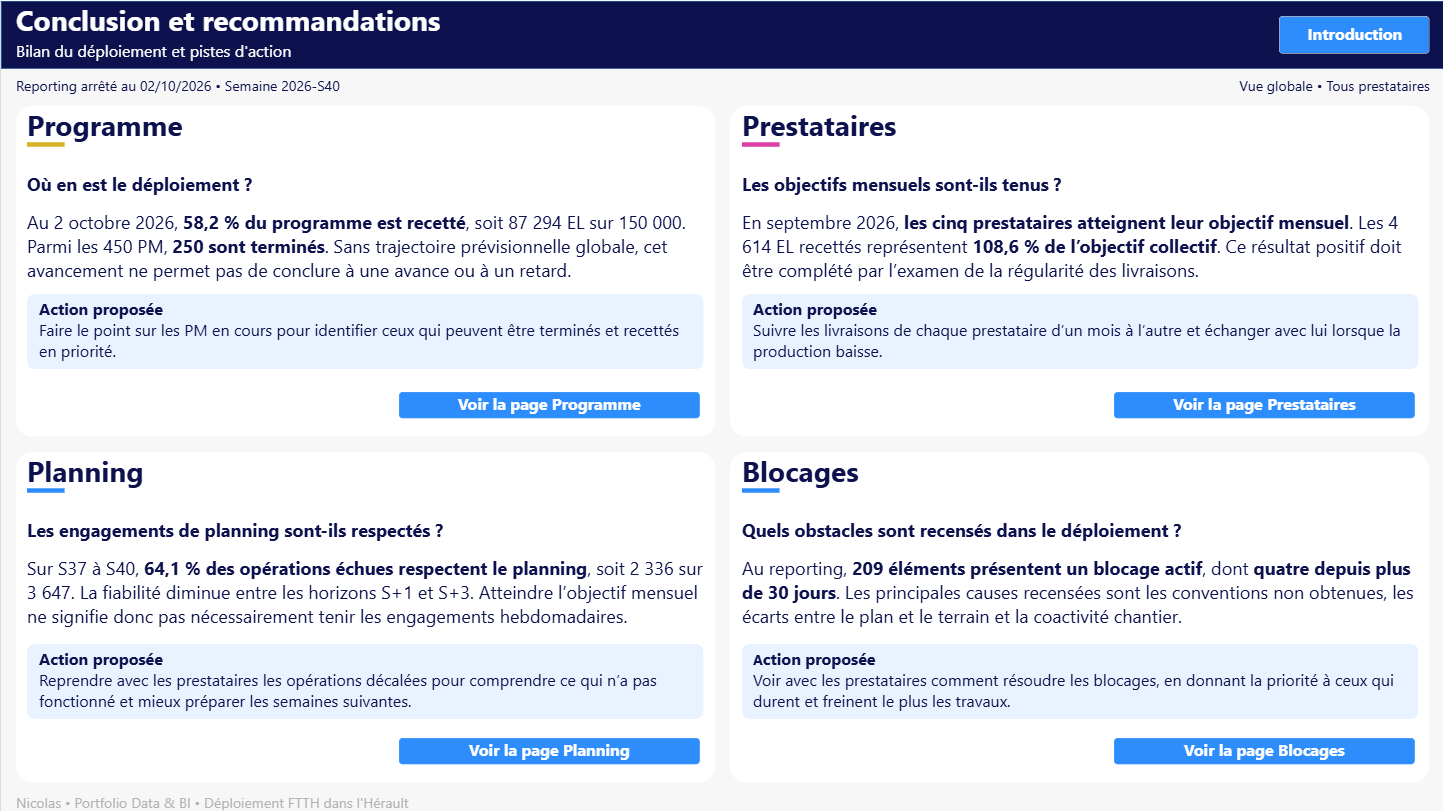

The page's visual inventory and layout, read from the dashboard file:
{"tool":"powerbi","page":{"name":"Conclusion","canvas":[1920,1080],"ordinal":5},"visuals":[{"type":"shape","box":[0,0,1920.1,90.5],"z":0},{"type":"textbox","title":"Conclusion et recommandations","box":[20,0,1880,90],"z":1000},{"type":"textbox","box":[20,100,500,30],"z":2000},{"type":"textbox","box":[1400,100,500,30],"z":3000},{"type":"textbox","title":"Nicolas • Portfolio Data & BI • Déploiement FTTH dans l''Hérault","box":[20,1053,850,23],"z":4000},{"type":"shape","title":"Programme","box":[20,140,930,440],"z":5000},{"type":"textbox","box":[35,140,915.7,235],"z":6000},{"type":"shape","box":[35,390,900,100],"z":7000},{"type":"textbox","box":[50,395,870,90],"z":8000},{"type":"shape","title":"Programme","box":[970,140,930,440],"z":9000},{"type":"textbox","box":[985,140,915.7,235],"z":10000},{"type":"shape","box":[985,390,900,100],"z":11000},{"type":"textbox","box":[1000,395,870,90],"z":12000},{"type":"shape","title":"Programme","box":[20,600,930,440],"z":13000},{"type":"shape","title":"Programme","box":[970,600,930,440],"z":14000},{"type":"textbox","box":[35,600,915.7,235],"z":15000},{"type":"textbox","box":[985,600,915.7,235],"z":16000},{"type":"shape","box":[35,855,900,100],"z":17000},{"type":"shape","box":[985,855,900,100],"z":18000},{"type":"textbox","box":[50,860,870,90],"z":19000},{"type":"textbox","box":[1000,860,870,90],"z":20000},{"type":"textbox","box":[530,520,400,35],"z":21000},{"type":"textbox","box":[1480,520,400,35],"z":22000},{"type":"textbox","box":[530,980,400,35],"z":23000},{"type":"textbox","box":[1480,980,400,35],"z":24000},{"type":"actionButton","box":[530,520,400,35],"z":25000},{"type":"actionButton","box":[1480,520,400,35],"z":26000},{"type":"actionButton","box":[530,980,400,35],"z":27000},{"type":"actionButton","box":[1480,980,400,35],"z":28000},{"type":"shape","title":"Introduction","box":[1700,20,200,50],"z":29000},{"type":"actionButton","box":[1700,20,200,50],"z":30000},{"type":"shape","box":[35,185,50,12],"z":31000},{"type":"shape","box":[985,185,50,12],"z":32000},{"type":"shape","box":[35,645,50,12],"z":33000},{"type":"shape","box":[985,645,50,12],"z":34000}]}

Visuals, with their boxes in screenshot pixels (x1, y1, x2, y2), scaled from the page's 1920x1080 canvas onto the 1443x811 screenshot:
shape: 0, 0, 1442, 68
"Conclusion et recommandations" textbox: 15, 0, 1428, 68
textbox: 15, 75, 391, 98
textbox: 1052, 75, 1428, 98
"Nicolas • Portfolio Data & BI • Déploiement FTTH dans l''Hérault" textbox: 15, 791, 654, 808
"Programme" shape: 15, 105, 714, 436
textbox: 26, 105, 715, 282
shape: 26, 293, 703, 368
textbox: 38, 297, 691, 364
"Programme" shape: 729, 105, 1428, 436
textbox: 740, 105, 1428, 282
shape: 740, 293, 1417, 368
textbox: 752, 297, 1405, 364
"Programme" shape: 15, 451, 714, 781
"Programme" shape: 729, 451, 1428, 781
textbox: 26, 451, 715, 627
textbox: 740, 451, 1428, 627
shape: 26, 642, 703, 717
shape: 740, 642, 1417, 717
textbox: 38, 646, 691, 713
textbox: 752, 646, 1405, 713
textbox: 398, 390, 699, 417
textbox: 1112, 390, 1413, 417
textbox: 398, 736, 699, 762
textbox: 1112, 736, 1413, 762
actionButton: 398, 390, 699, 417
actionButton: 1112, 390, 1413, 417
actionButton: 398, 736, 699, 762
actionButton: 1112, 736, 1413, 762
"Introduction" shape: 1278, 15, 1428, 53
actionButton: 1278, 15, 1428, 53
shape: 26, 139, 64, 148
shape: 740, 139, 778, 148
shape: 26, 484, 64, 493
shape: 740, 484, 778, 493
